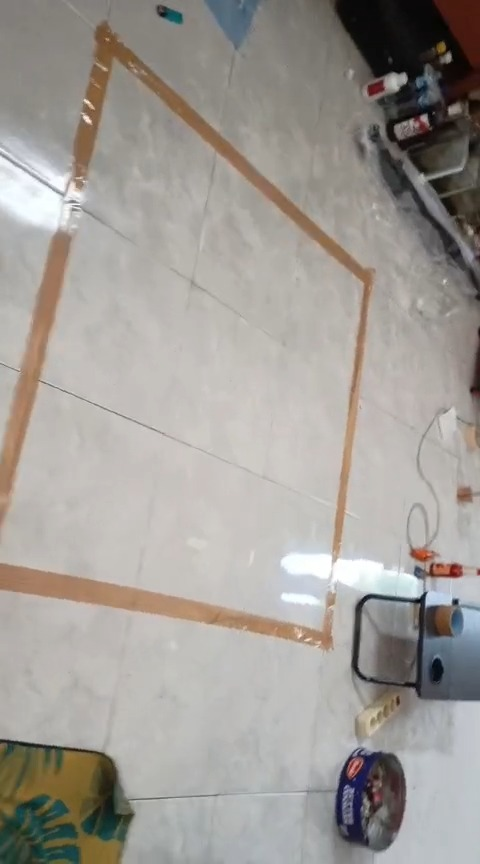floor marking: (0, 21, 374, 566), (0, 563, 335, 649)
